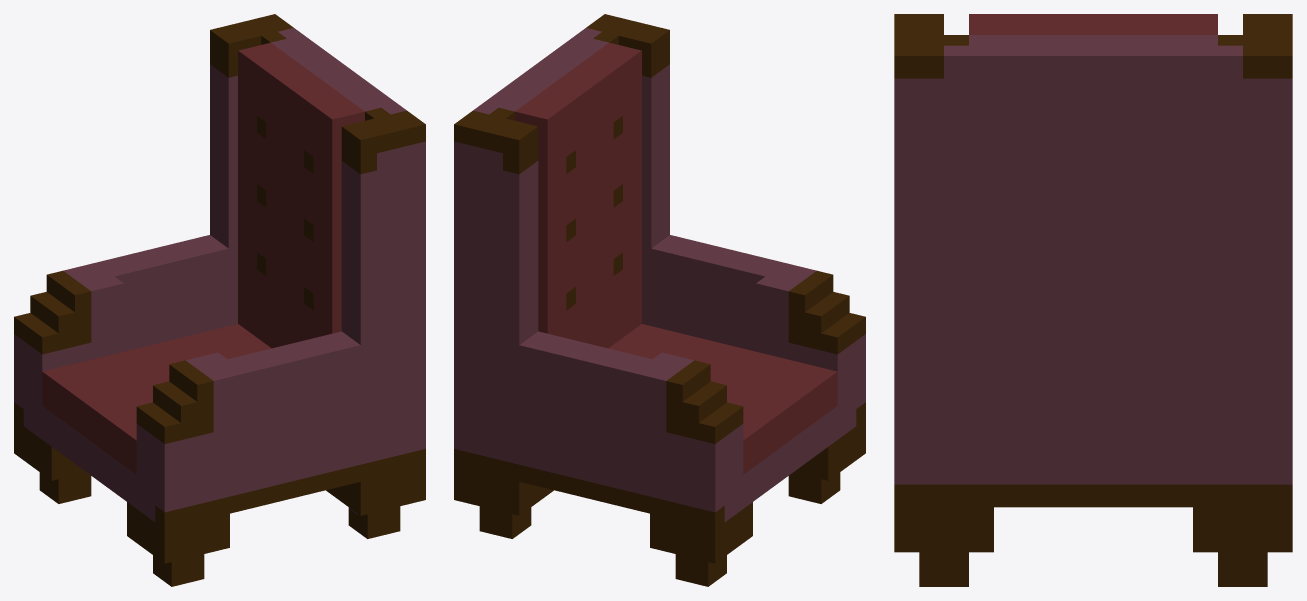
File: morpheus chair.obj
The picture shows the model from 3 angles, left to right: view 1: azimuth 30°, elevation 25°; view 2: azimuth 150°, elevation 25°; view 3: azimuth 270°, elevation 25°; orthographic projection. The views are drawn at different scales.
Parts seen in each view (by area): view 1: morpheus chair; view 2: morpheus chair; view 3: morpheus chair.
Part boxes in pixels (left/top/right/bottom): morpheus chair: left=14, top=14, right=425, bottom=586; morpheus chair: left=454, top=14, right=865, bottom=586; morpheus chair: left=894, top=14, right=1292, bottom=586.
Bounding box in the file's own units: 16 × 24 × 16.
Materials: 1 (1 with a texture image).
